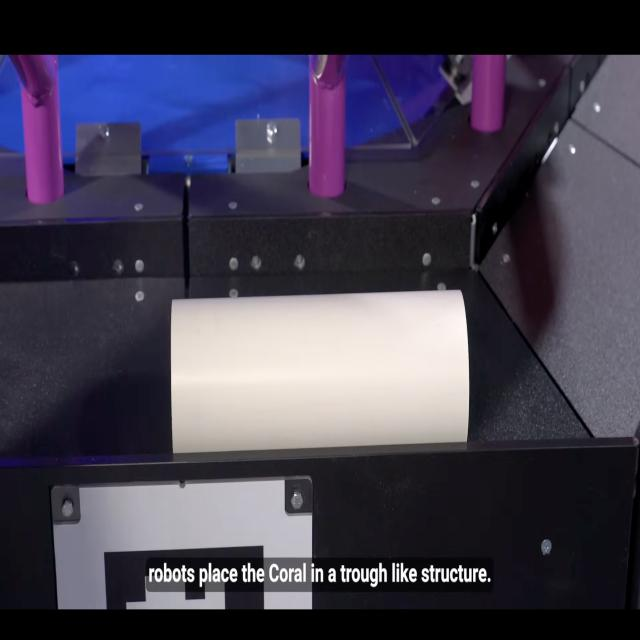coral: (167, 279, 478, 465)
